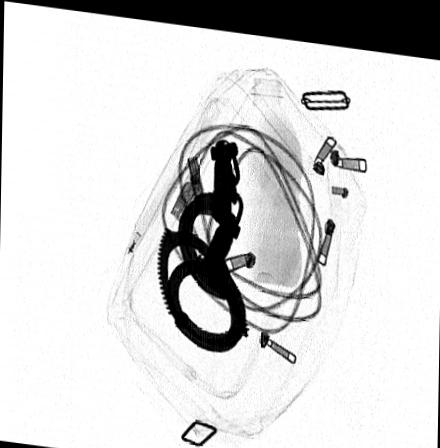HandCuffs: (154, 129, 249, 350)
